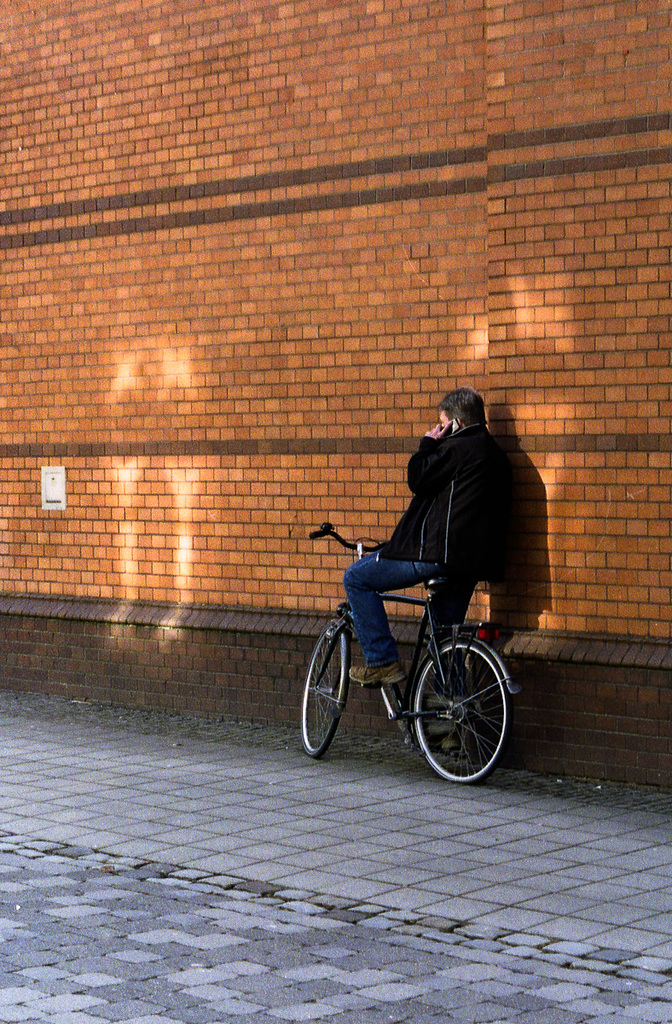Bike_away: (268, 530, 510, 806)
